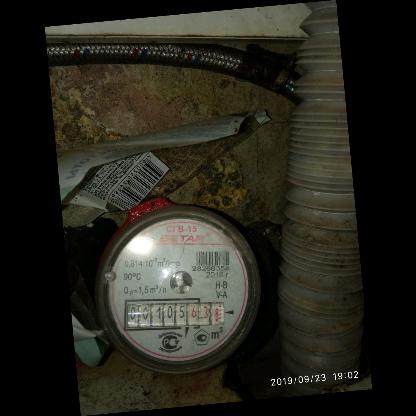digital_screen: (122, 296, 190, 330)
